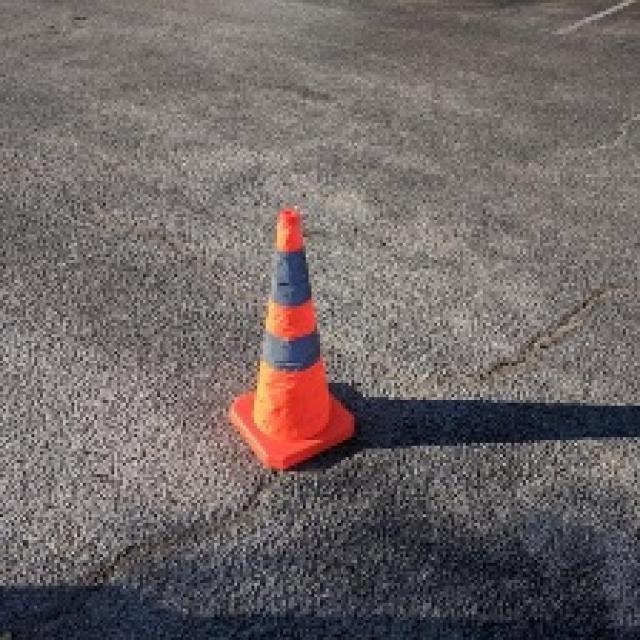traffic cone: (227, 206, 356, 472)
